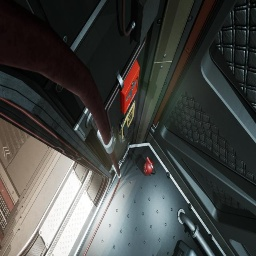EmergencyPhone ,: (119, 98, 135, 142)
FireAlarm ,: (120, 59, 140, 114)
FireExtinguisher ]: (143, 157, 156, 176)
